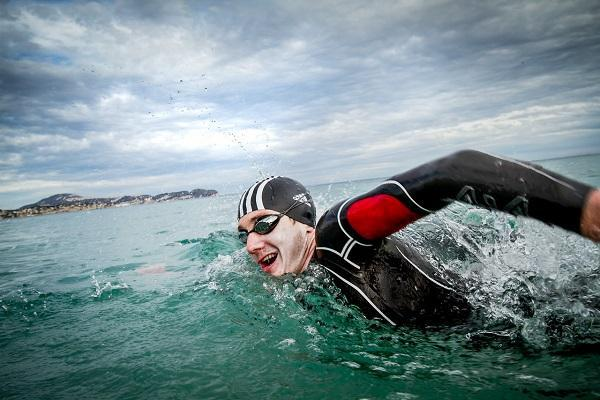swimmer: (233, 143, 600, 366)
